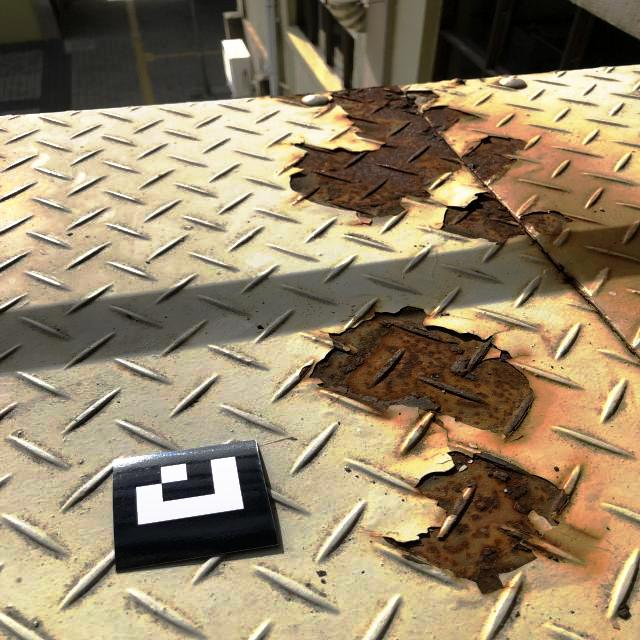Corrosion: (290, 86, 526, 225), (299, 306, 535, 440), (383, 451, 599, 595), (440, 192, 573, 244), (557, 265, 587, 301), (270, 94, 310, 105), (455, 78, 467, 86)
